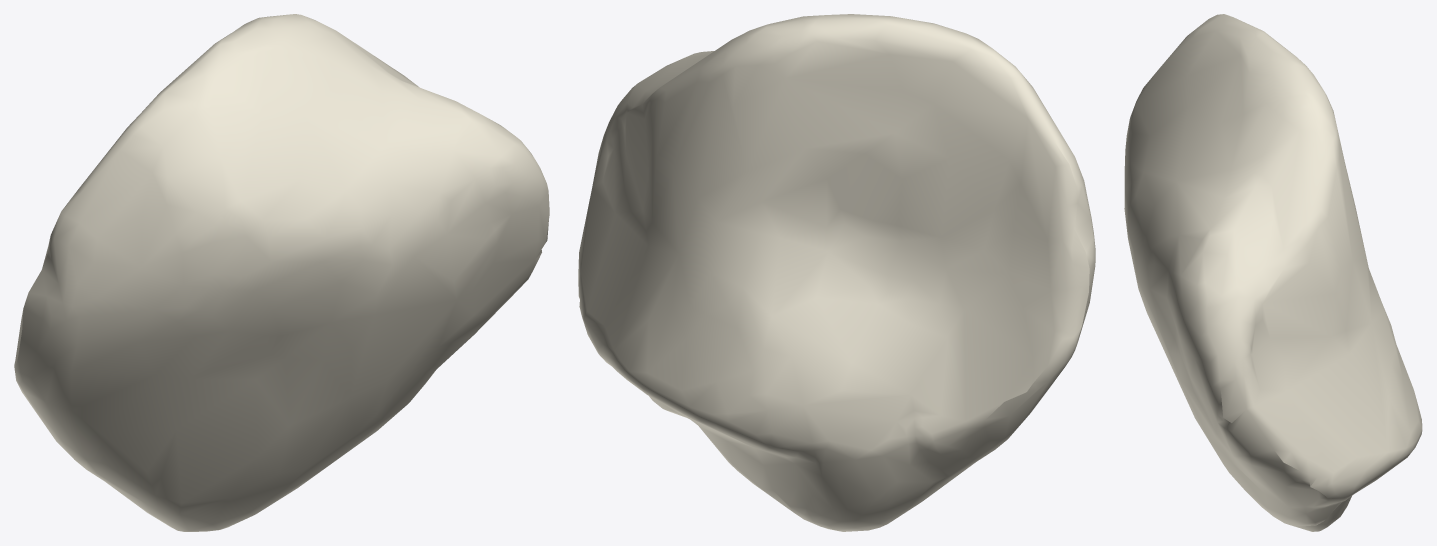
The model's file is fma24486.glb.
3 views of the same model, side by side, from view 1: azimuth 30°, elevation 25°; view 2: azimuth 150°, elevation 25°; view 3: azimuth 270°, elevation 25° (orthographic). The views are drawn at different scales.
Parts seen in each view (by area): view 1: FMA24486; view 2: FMA24486; view 3: FMA24486.
Part boxes in pixels (<box>): FMA24486: <box>14,14,549,531</box>; FMA24486: <box>578,14,1095,531</box>; FMA24486: <box>1124,14,1422,531</box>.
Bounding box in the file's own units: 0.042 × 0.0397 × 0.0223.
